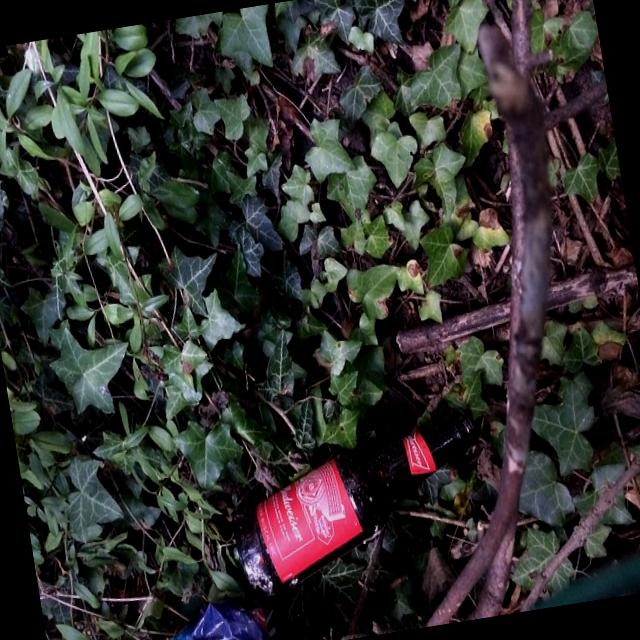Trash: (220, 404, 500, 602)
